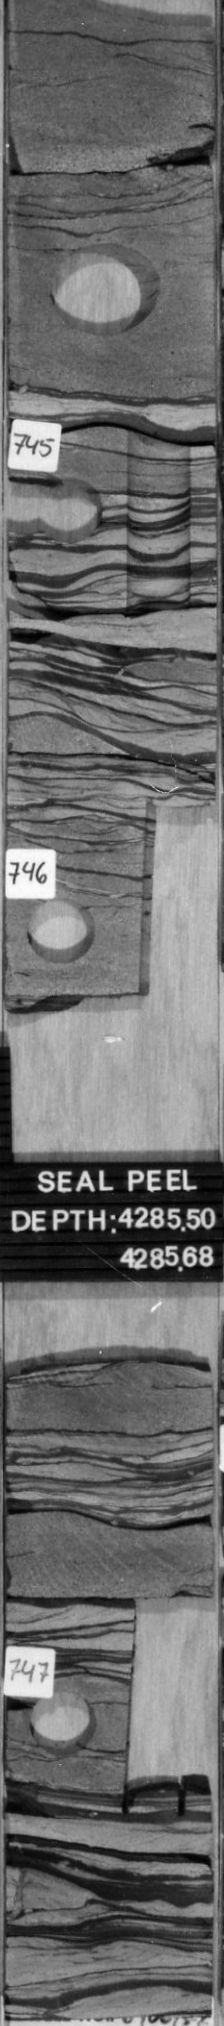hplug: (32, 470, 107, 549), (23, 897, 98, 968), (25, 1691, 102, 1760)
scal: (47, 239, 166, 341)
vplug: (123, 1587, 212, 1815), (133, 787, 216, 994), (120, 424, 196, 612)
